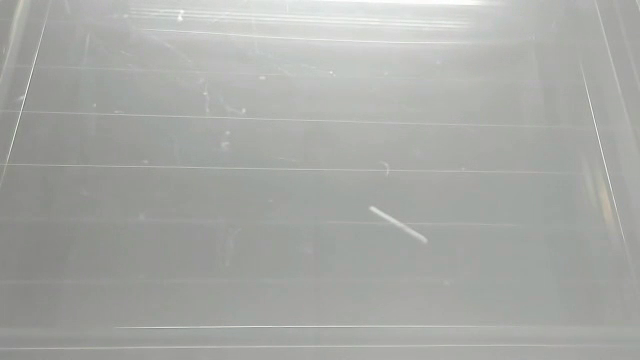alpha: (367, 203, 431, 248)
